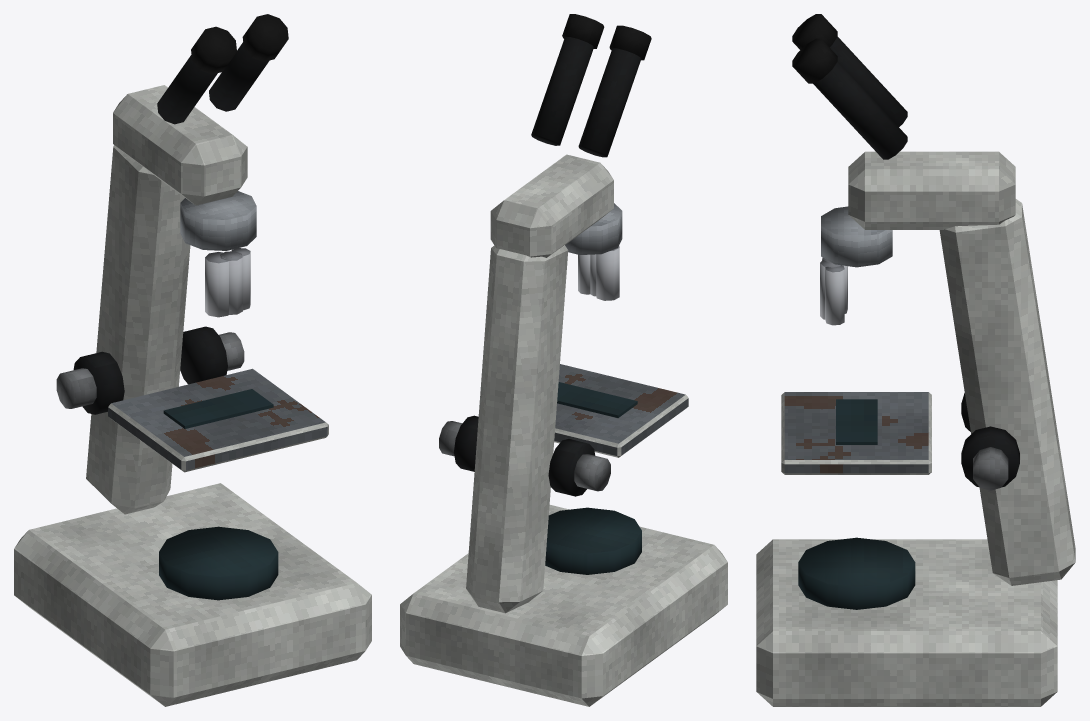
Rendered from Microscope.fbx.
3 renders of one model, left to right at view 1: azimuth 30°, elevation 25°; view 2: azimuth 150°, elevation 25°; view 3: azimuth 270°, elevation 25°, orthographic. The views are drawn at different scales.
Parts seen in each view (by area): view 1: Microscope; view 2: Microscope; view 3: Microscope.
Boxes of the visible parts, bbox=[...] form: Microscope: bbox=[14, 14, 371, 706]; Microscope: bbox=[400, 14, 727, 706]; Microscope: bbox=[756, 14, 1075, 706].
Bounding box in the file's own units: 0.3 × 0.8334 × 0.3815.
